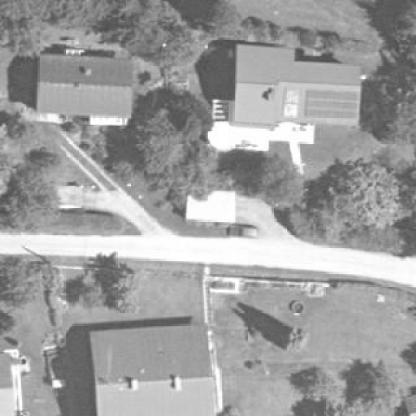solar-pv-panel: (304, 89, 358, 119), (284, 89, 300, 118)
